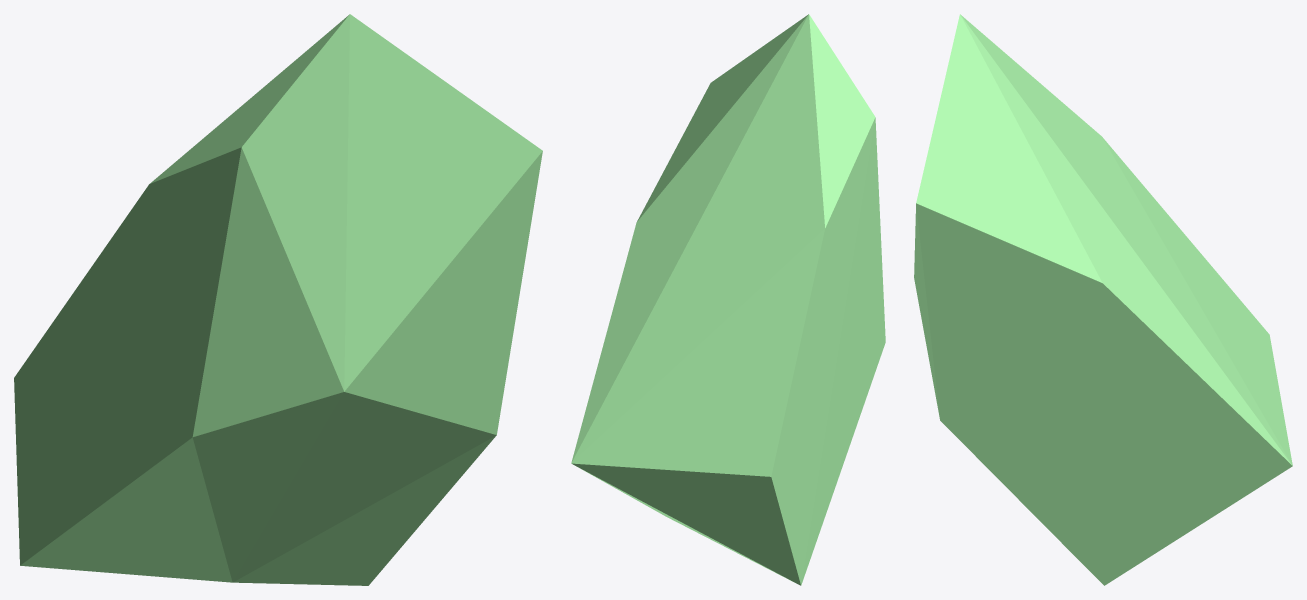
File: UMIRobot_UMIRobot_link_5_convex_coll_53.dae
3 renders of one model, left to right at view 1: azimuth 30°, elevation 25°; view 2: azimuth 150°, elevation 25°; view 3: azimuth 270°, elevation 25°, orthographic. The views are drawn at different scales.
Visible parts, largest first — view 1: node; view 2: node; view 3: node.
Boxes of the visible parts, bbox=[...] form: node: bbox=[14, 14, 542, 585]; node: bbox=[571, 14, 885, 585]; node: bbox=[914, 14, 1292, 585].
Size of the model in its own units: 0.00364 by 0.00711 by 0.00461.
